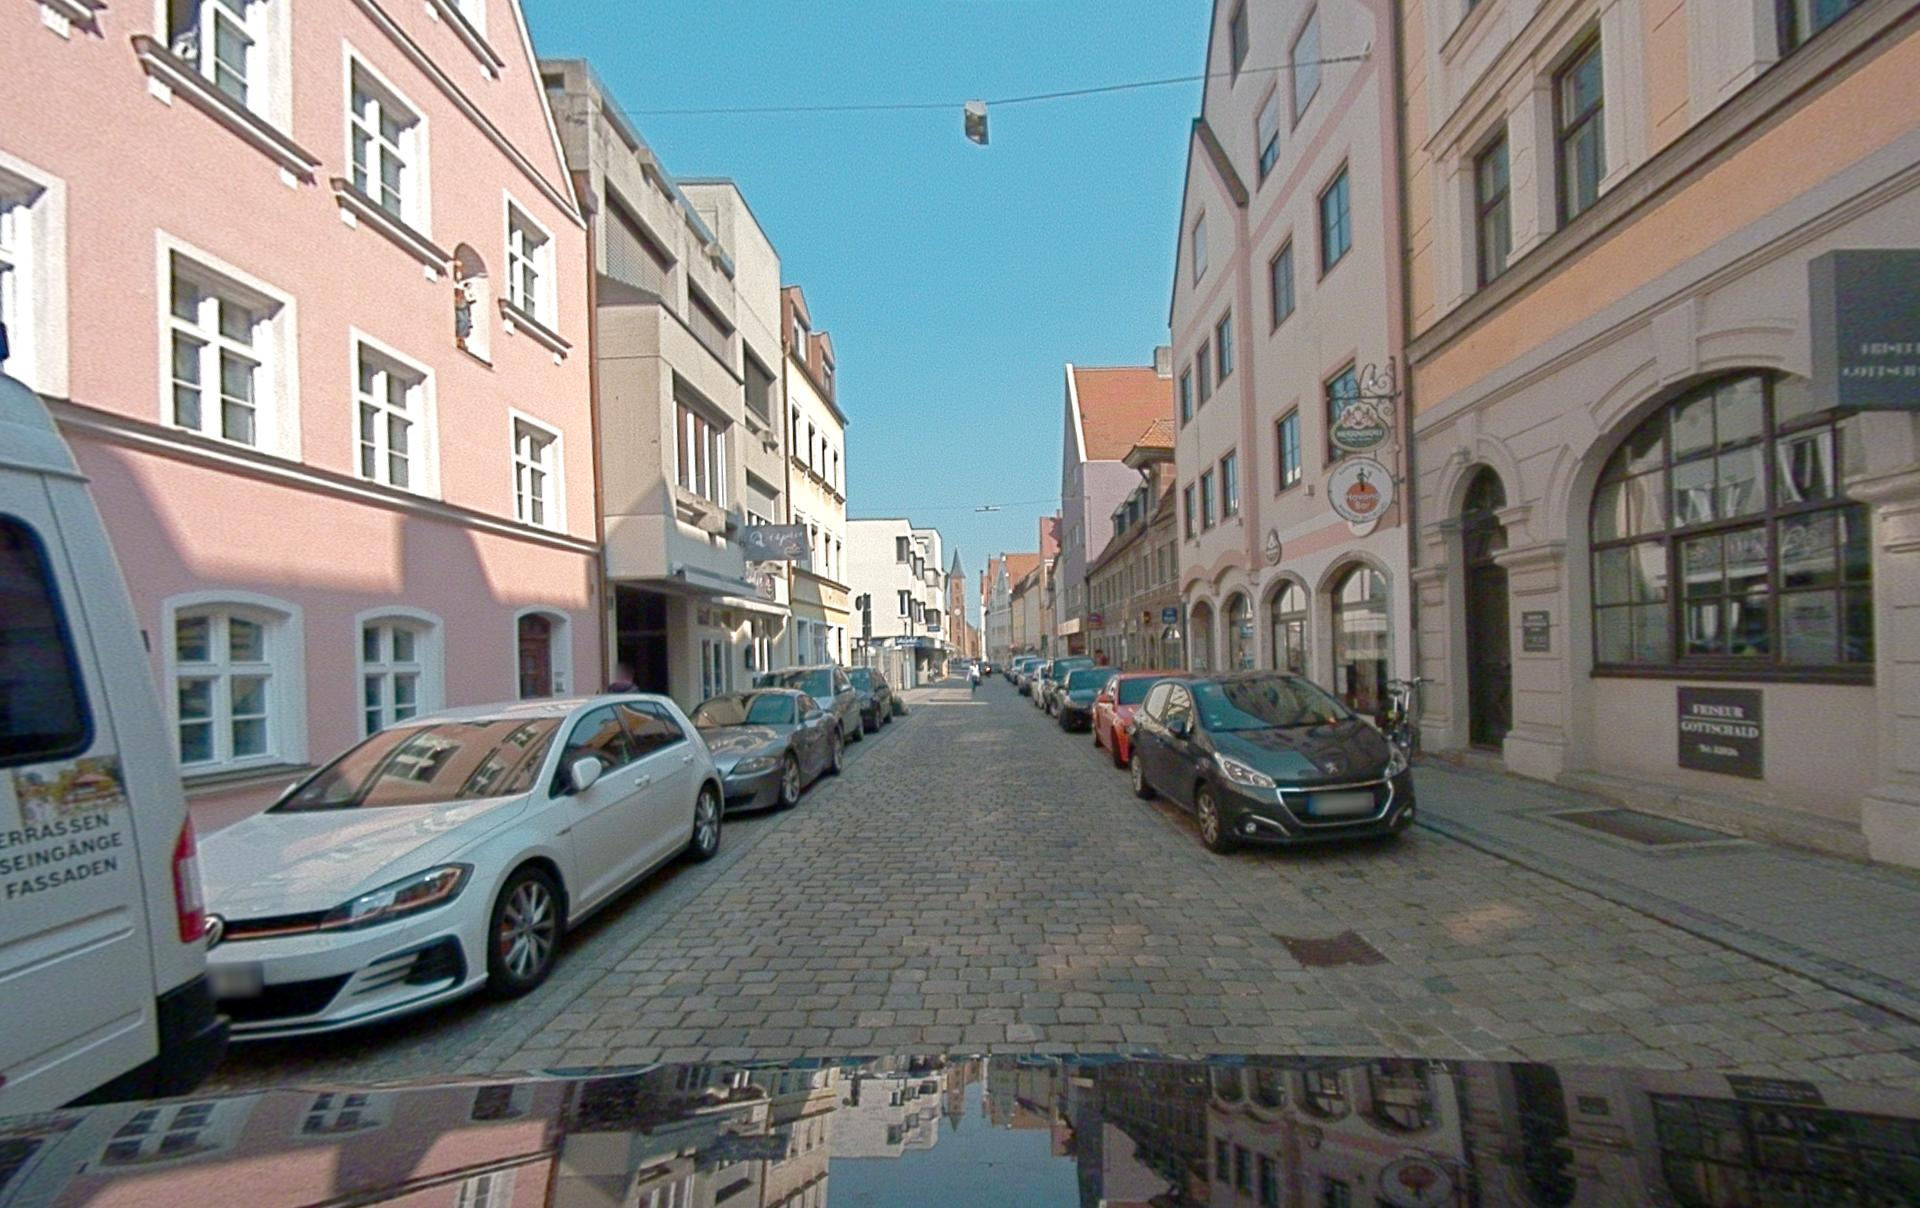car: (201, 692, 721, 1039), (1130, 672, 1414, 851), (690, 688, 842, 809), (1091, 670, 1183, 766), (753, 664, 864, 739), (1053, 667, 1116, 731), (1034, 655, 1094, 711), (846, 667, 892, 731), (1017, 658, 1045, 695), (1008, 655, 1041, 683), (1031, 662, 1050, 705)
motorcycle: (1380, 677, 1431, 754)
